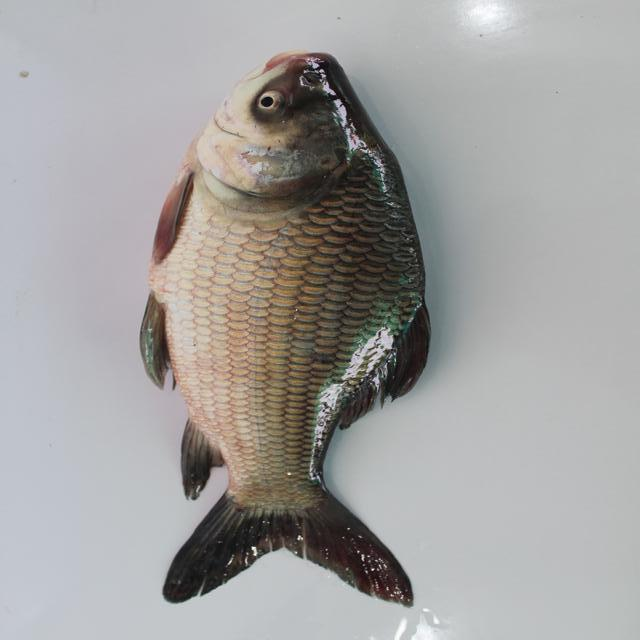Catla: (135, 42, 454, 610)
